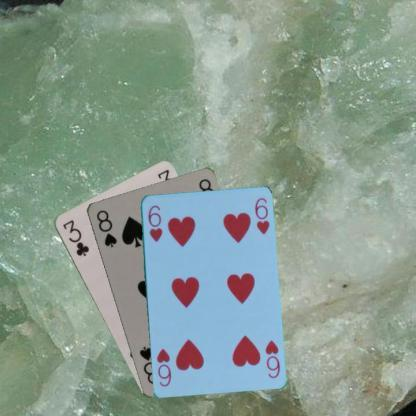3c: (60, 216, 90, 258)
6h: (145, 202, 164, 243), (262, 338, 280, 380)
8s: (93, 206, 118, 249)
